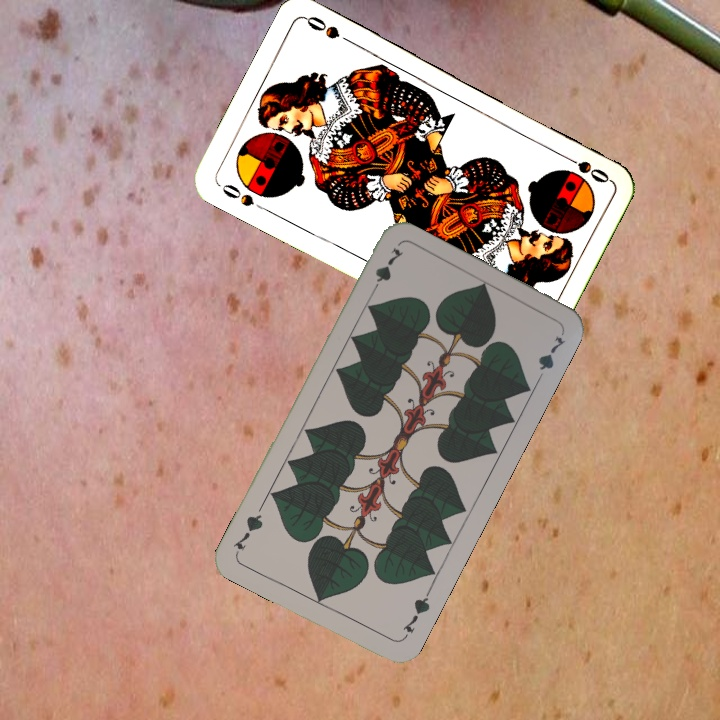G7: (367, 243, 406, 298), (398, 587, 433, 642)
SO: (557, 150, 612, 186), (215, 179, 270, 214)
